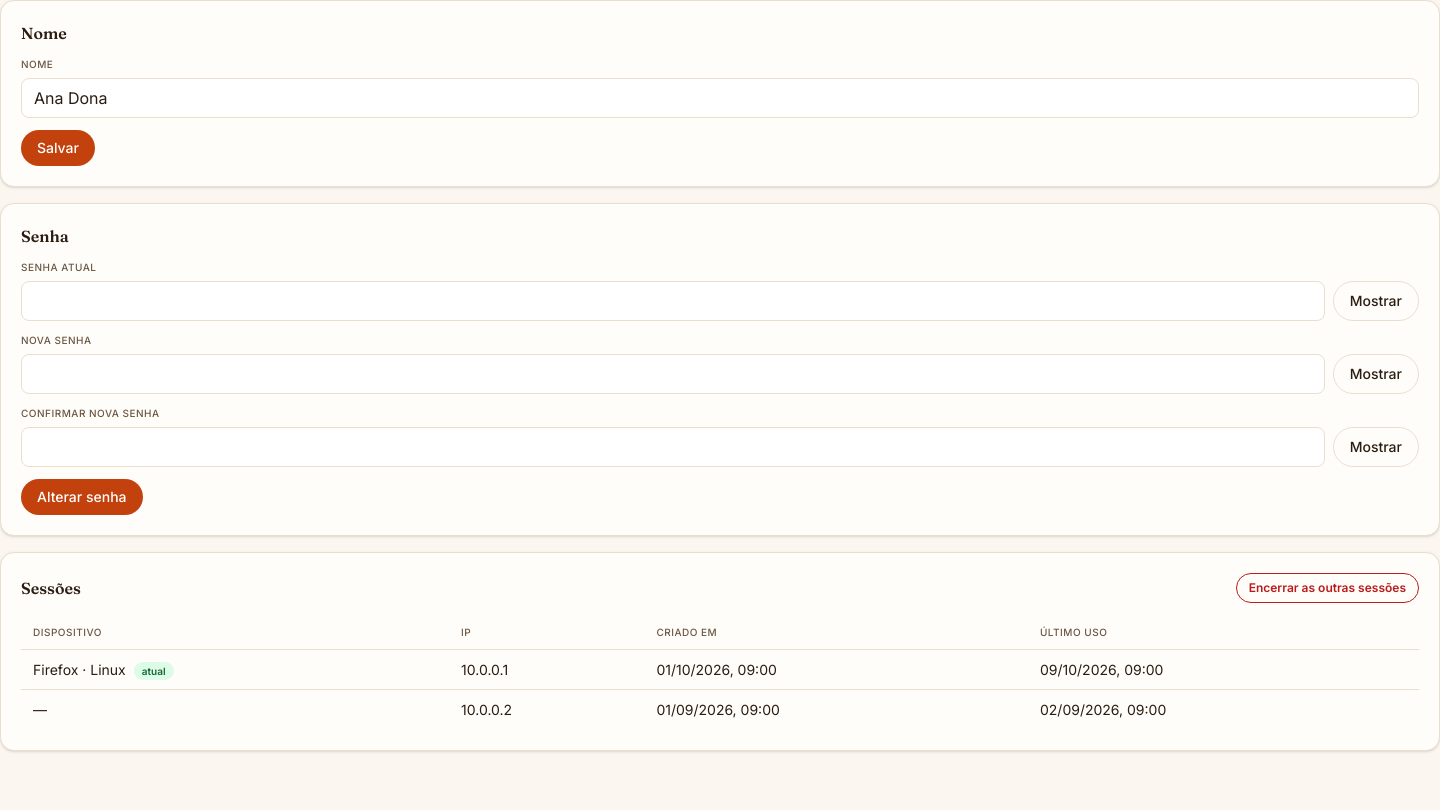
Test: MyAccountSection › changesThePasswordAndClearsTheForm
In the password field labelled "Senha atual": (673, 301) [21,281,1325,321], type "antiga-senha-1"
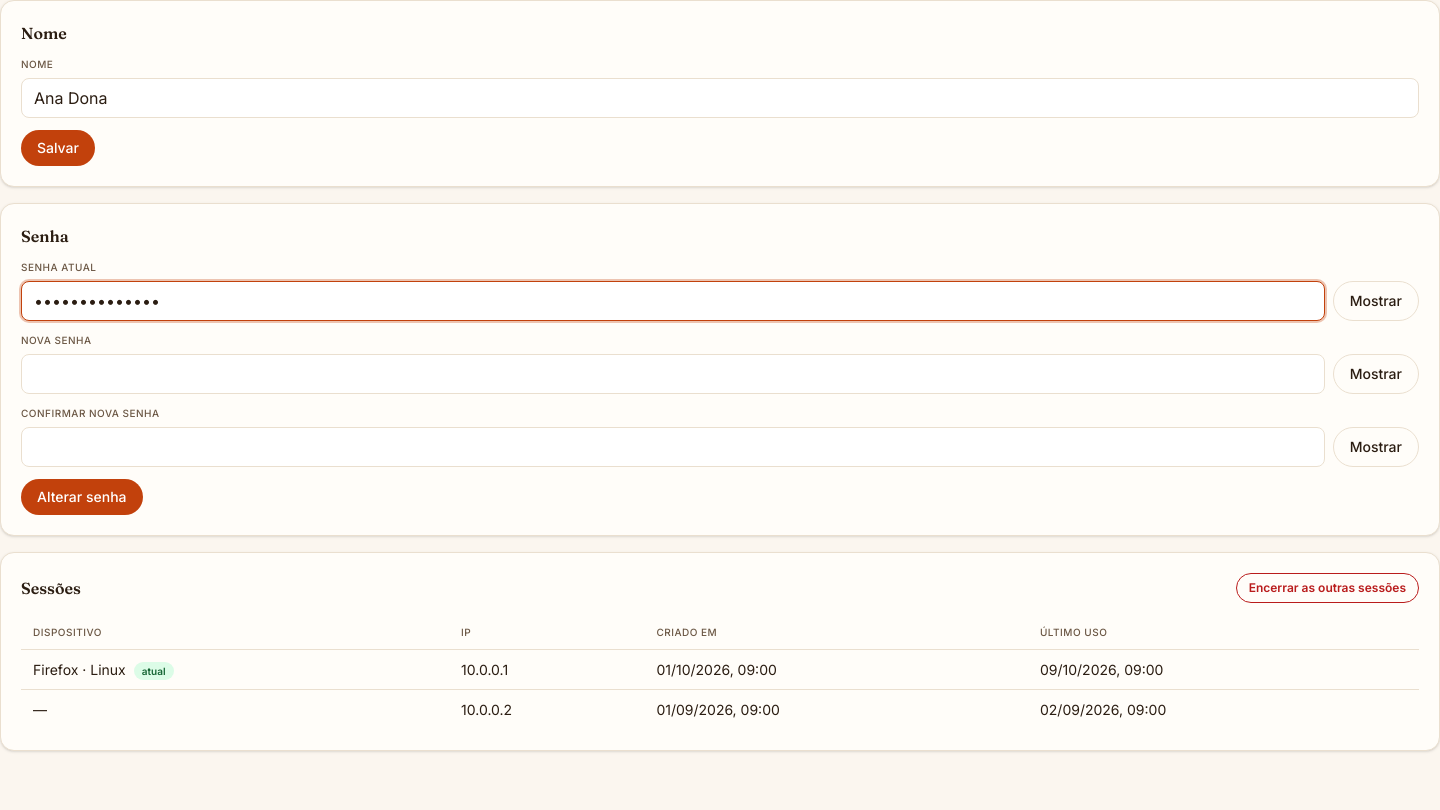
In the password field labelled "Nova senha": (673, 374) [21,354,1325,394], type "nova-senha-123"
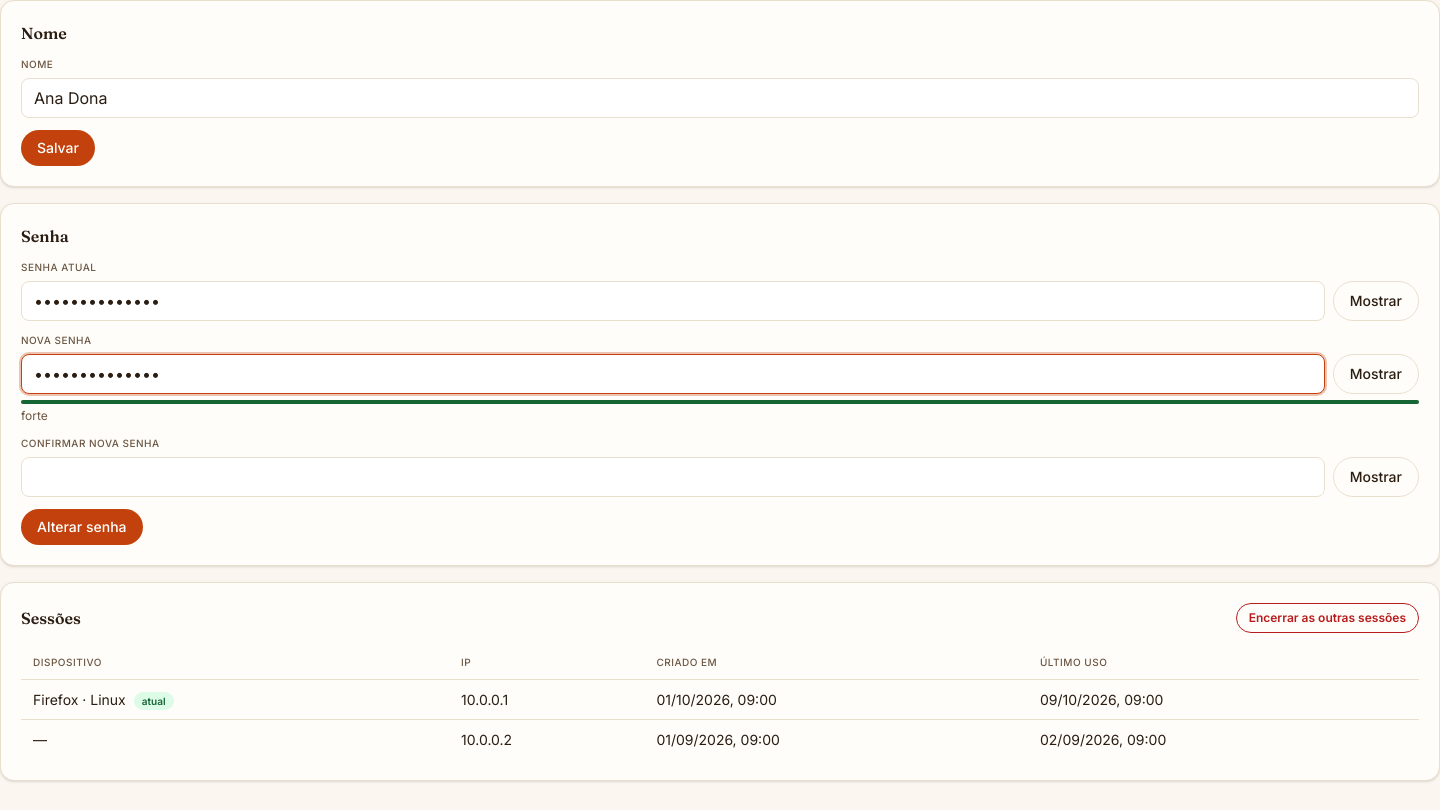
In the password field labelled "Confirmar nova senha": (673, 477) [21,457,1325,497], type "nova-senha-123"
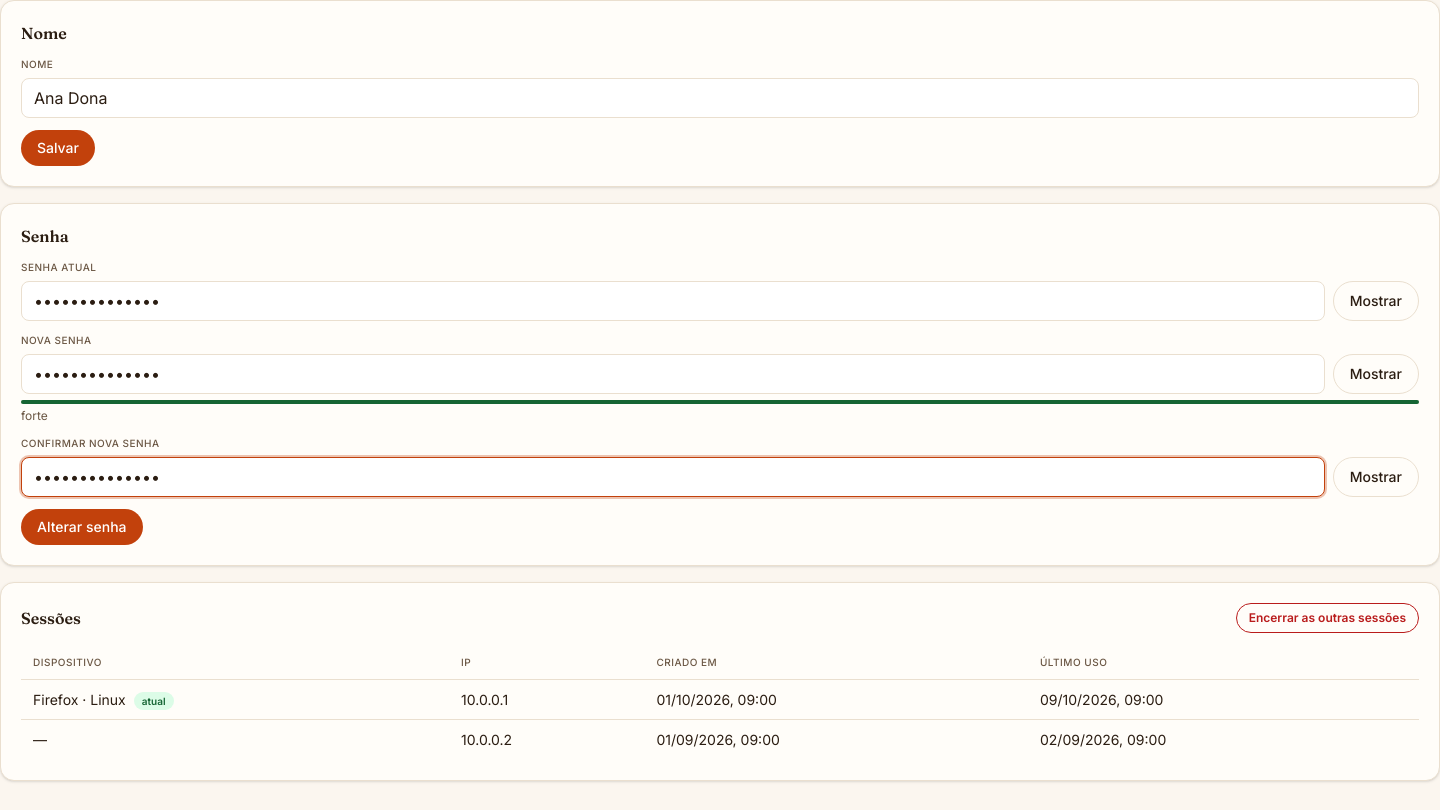
Click the button "Alterar senha": (82, 527) [21,509,142,545]
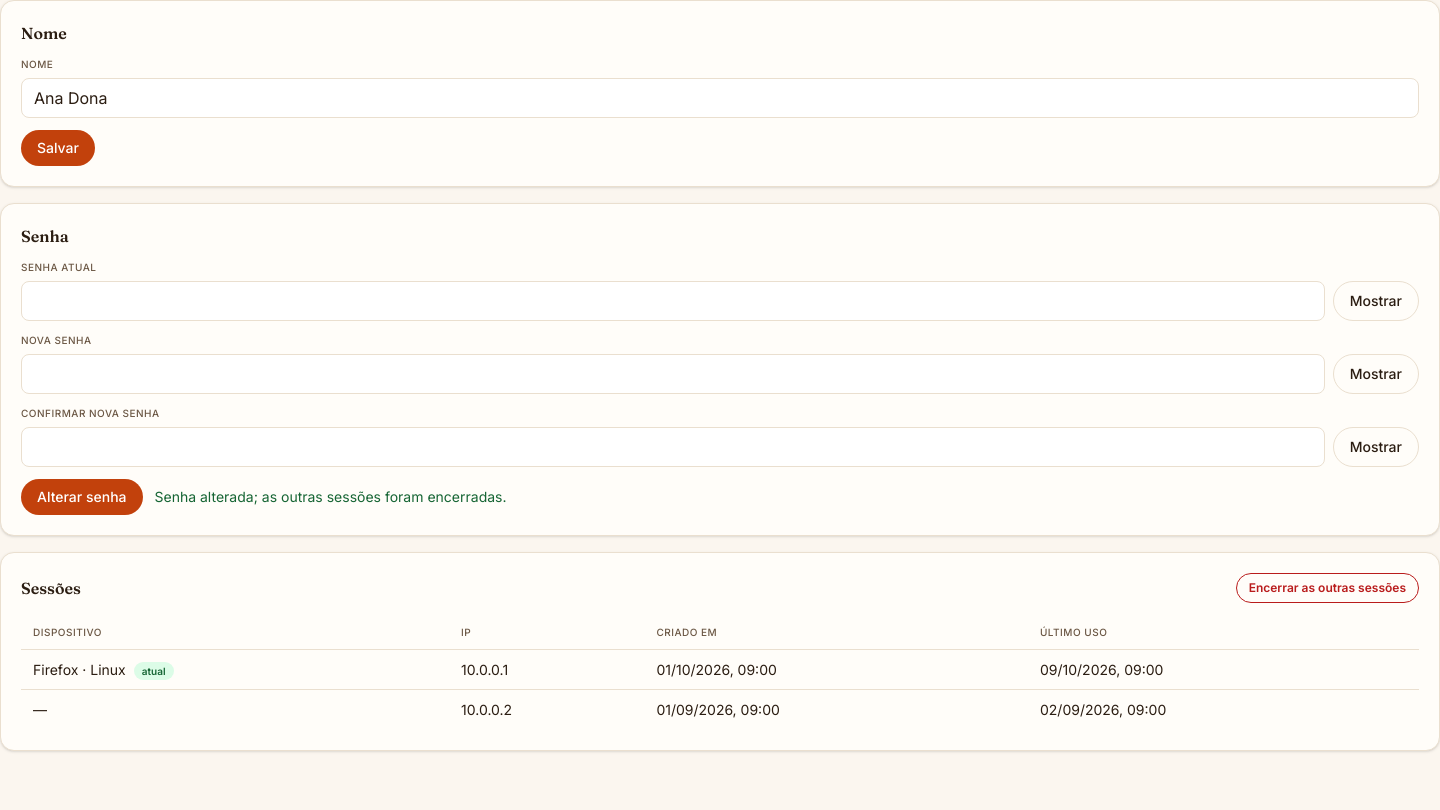
Result: the text "Senha alterada; as outras sessões foram encerradas." is shown at [154,487,506,507]
Result: the password field labelled "Senha atual" is empty at [21,281,1325,321]
Result: the password field labelled "Nova senha" is empty at [21,354,1325,394]
